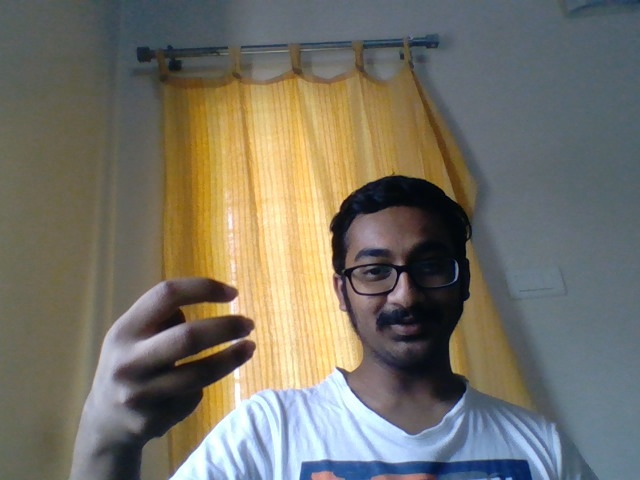thanks: (84, 247, 265, 450)
